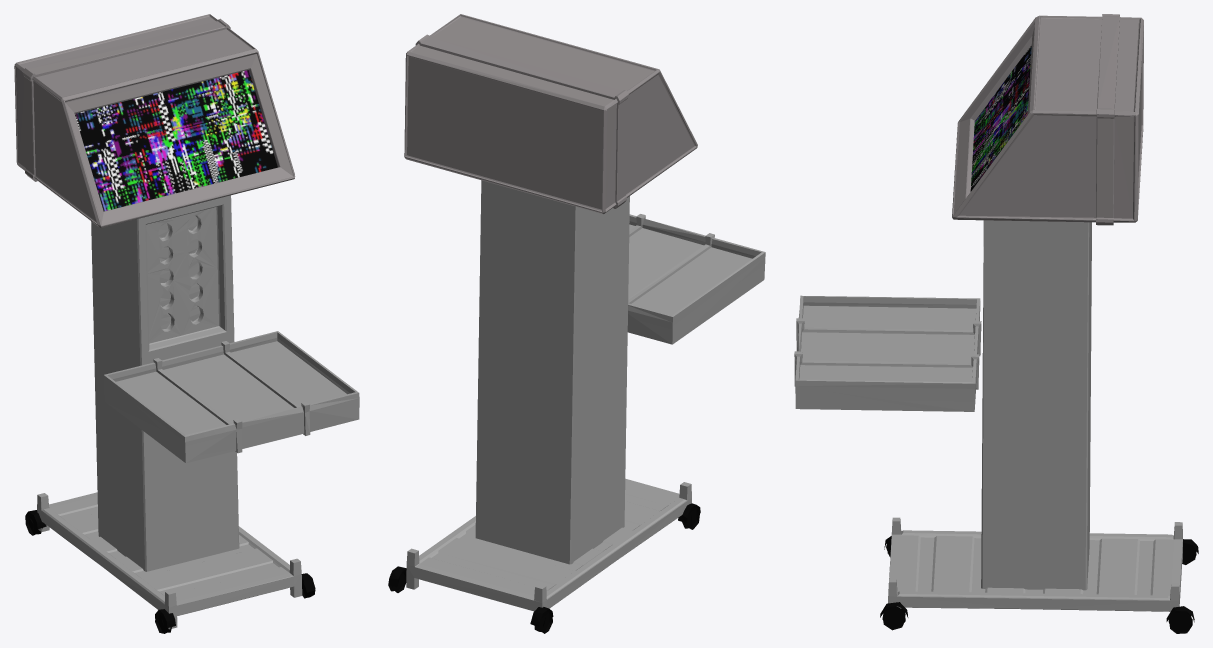
File: ultrasound 1.fbx
3 views of the same model, side by side, from view 1: azimuth 30°, elevation 25°; view 2: azimuth 150°, elevation 25°; view 3: azimuth 270°, elevation 25° (orthographic). The views are drawn at different scales.
Parts seen in each view (by area): view 1: tray, top, screen, wheels.001; view 2: tray, top, wheels.001; view 3: tray, top, screen, wheels.001.
Part boxes in pixels (x1,y1,x2,y2): tray: [37, 195, 359, 629]; top: [14, 14, 295, 228]; screen: [74, 70, 277, 211]; wheels.001: [25, 510, 315, 633]; tray: [406, 180, 765, 611]; top: [404, 14, 697, 214]; wheels.001: [388, 503, 700, 633]; tray: [794, 220, 1182, 611]; top: [952, 14, 1143, 225]; screen: [970, 45, 1031, 191]; wheels.001: [880, 536, 1198, 633].
Size of the model in its own units: 5046 by 12145 by 8340.
4 materials, 2 textured.
